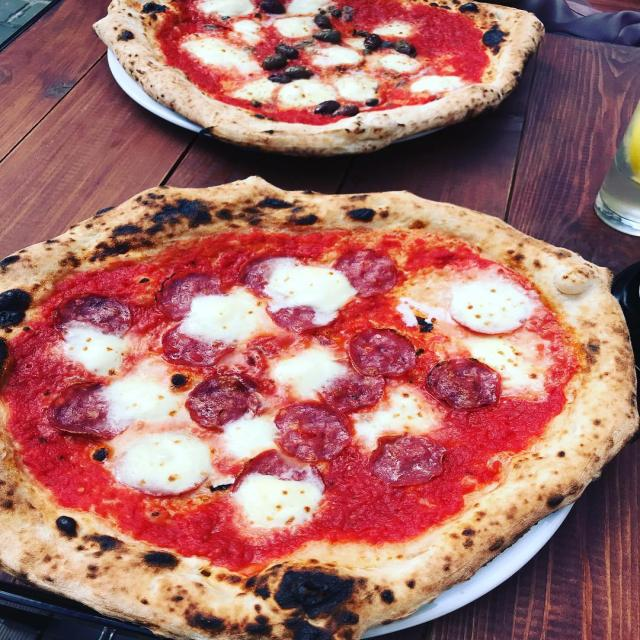pepperoni: (271, 396, 358, 466), (45, 381, 133, 442), (106, 449, 205, 502), (231, 448, 331, 500), (185, 372, 264, 434), (424, 355, 509, 412), (54, 288, 136, 346), (152, 264, 232, 322), (368, 432, 448, 488), (151, 319, 239, 368), (344, 325, 420, 378), (316, 364, 388, 412), (334, 251, 399, 296), (444, 304, 529, 338), (244, 254, 302, 298), (262, 301, 319, 335)
pizza: (0, 177, 637, 640), (78, 0, 548, 158)
